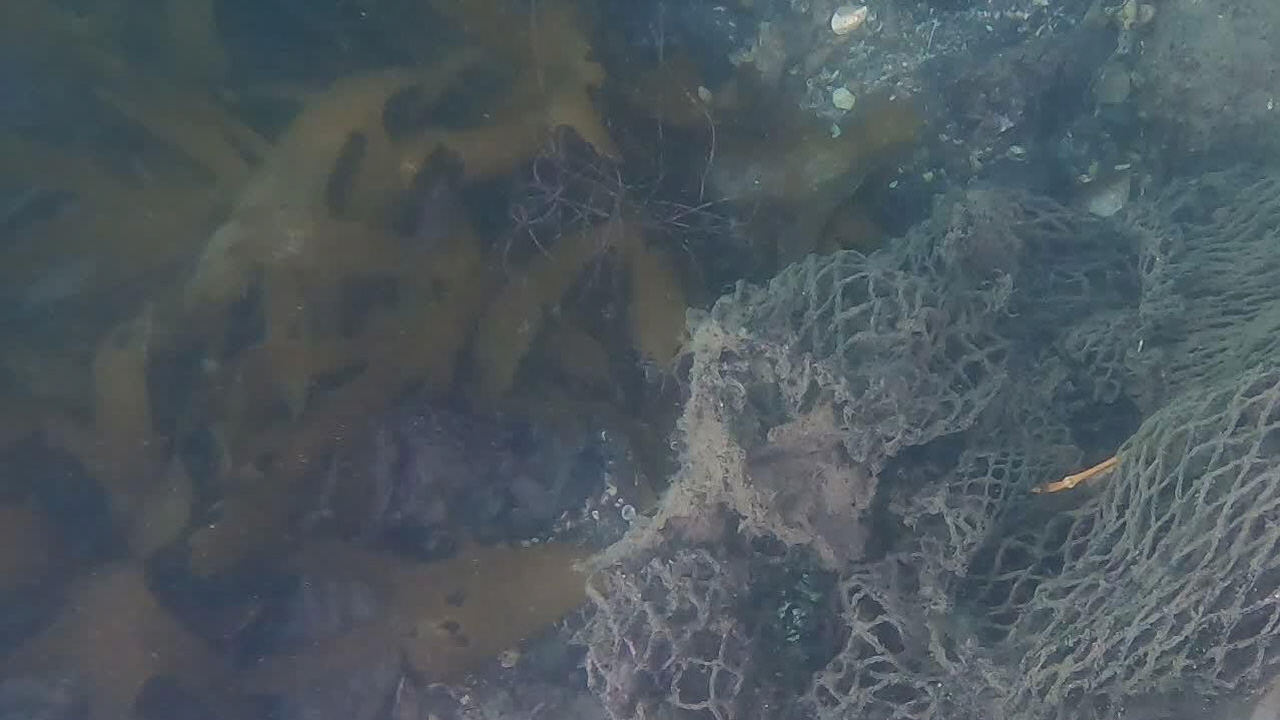fish net: (565, 165, 1276, 720)
